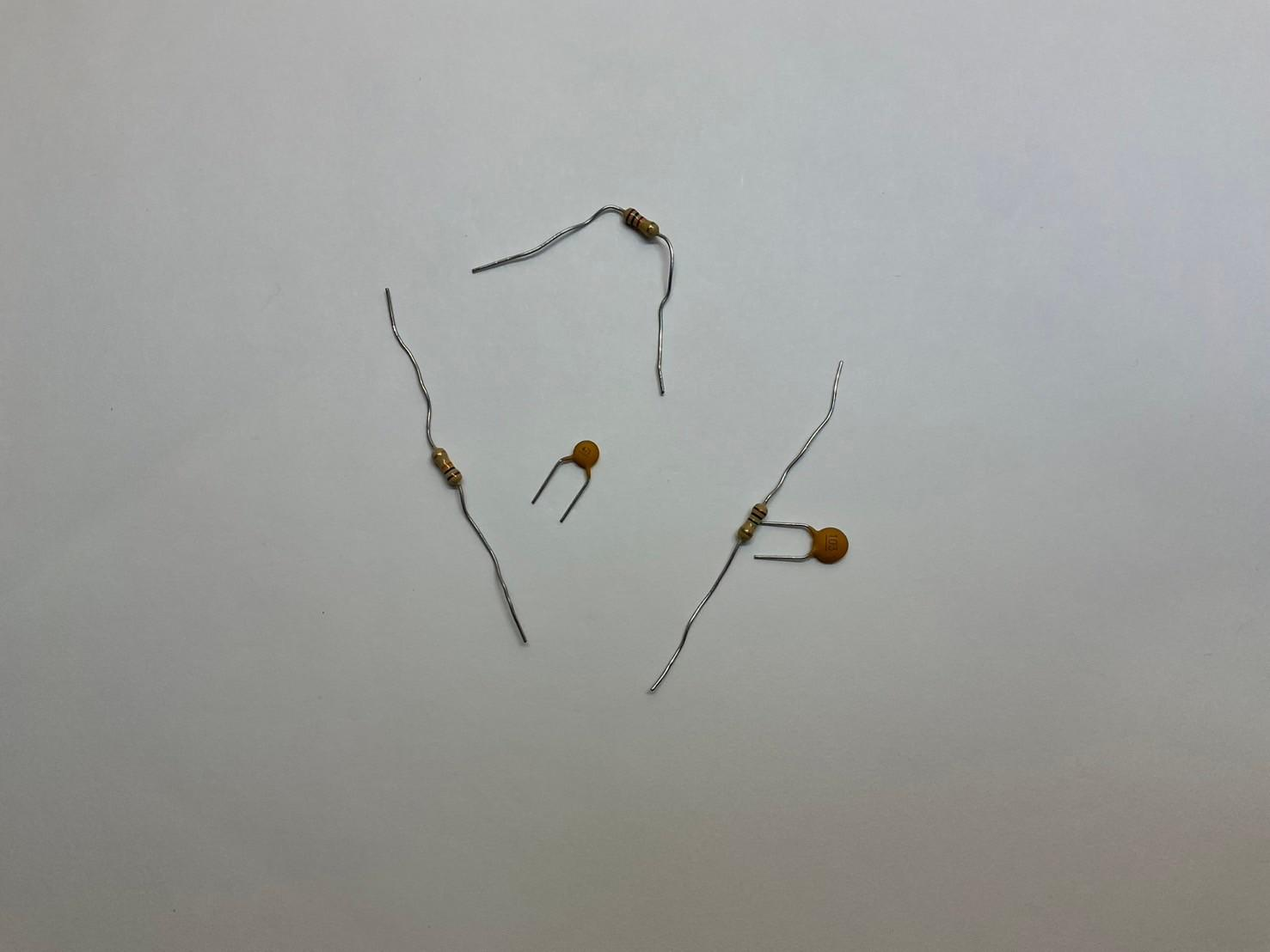resistor: (430, 446, 465, 488), (619, 207, 659, 240), (736, 503, 769, 542)
